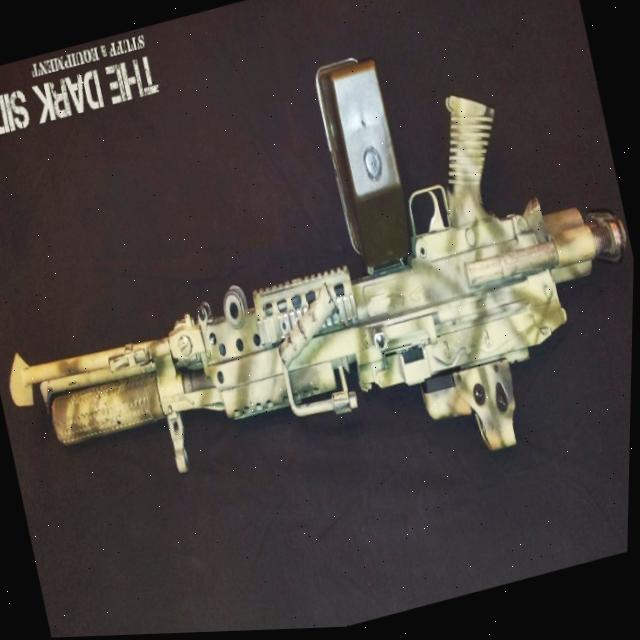firearm: (0, 55, 639, 572)
